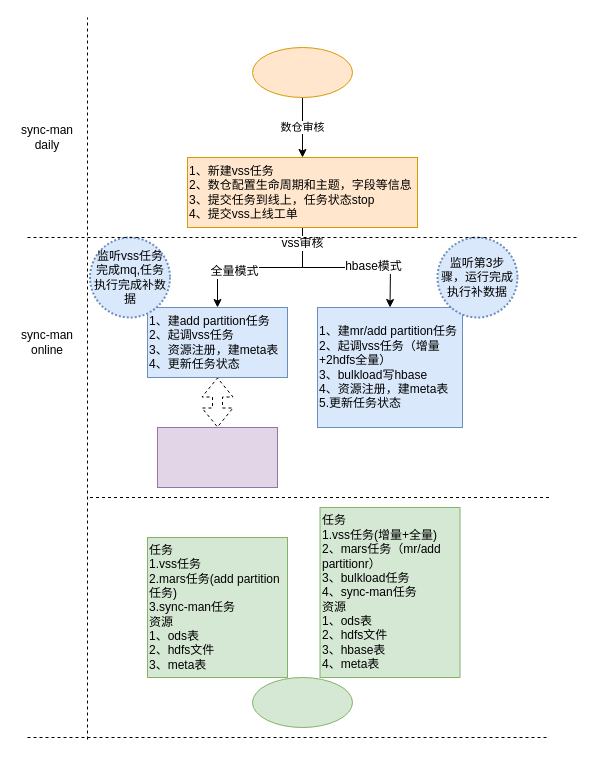
The diagram is 596 pixels wide and 758 high, and some of its shapes have lost their labels. The centre of each missing label's shape, as x and y in pixels:
删除任务（回收） db_2_hdfs: (302,702)
定时任务，拉全量模式的任务，0点之后循环调度vss全量任务: (217,457)
新建任务 db_2_hdfs: (302,72)
